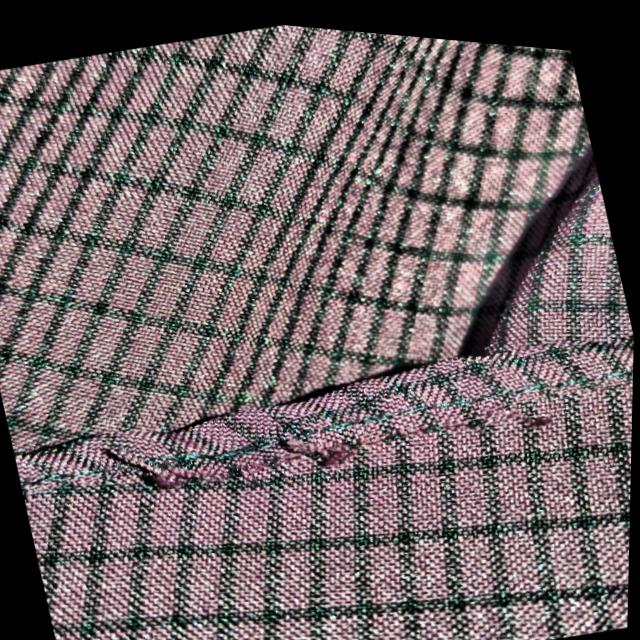Stitch: (263, 390, 421, 495), (99, 427, 249, 515)
